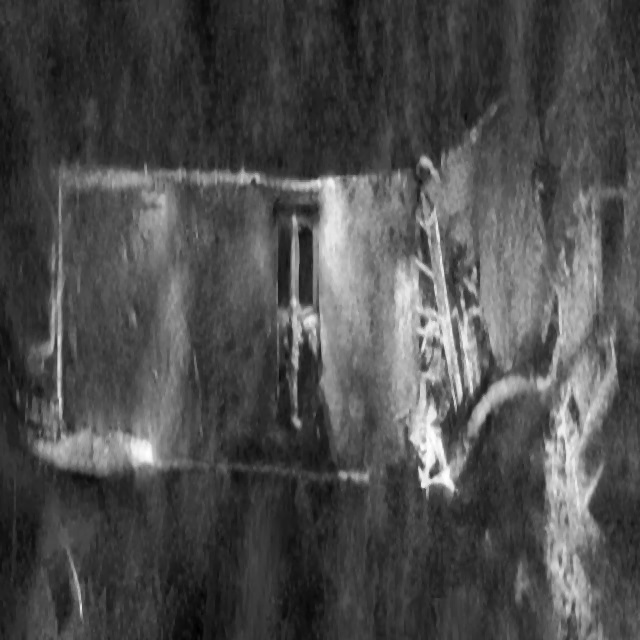Ship: (2, 108, 640, 638)
